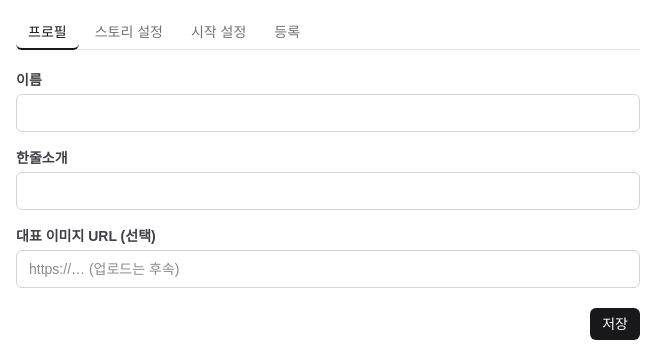
Test: StoryForm (#47) › 4개 탭을 렌더하고 탭 전환으로 패널을 바꾼다
The image size is (657, 357).
Expected: the tab "프로필" is shown, [16,16,79,50]
Expected: the tab "스토리 설정" is shown, [83,16,175,50]
Click the tab "등록": (287, 33) [262,16,312,50]
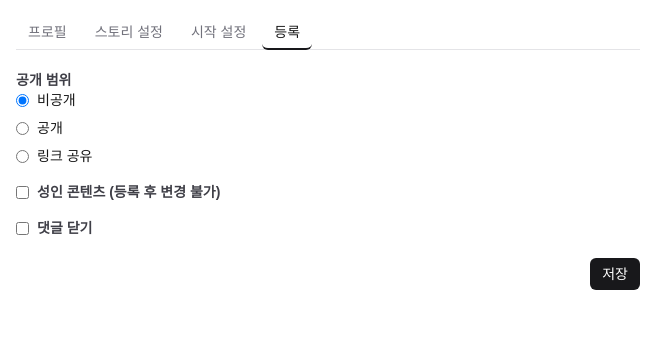
Result: the text "공개 범위" is shown at [16,70,71,90]
